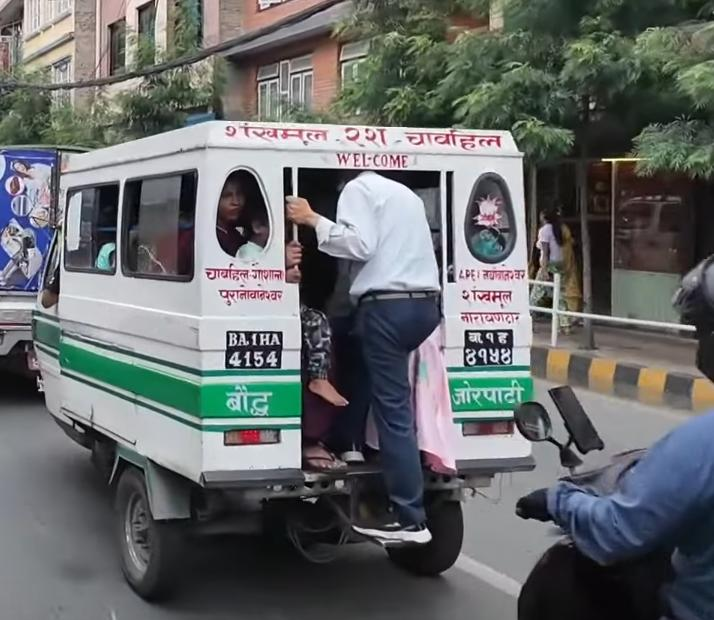tempo: (34, 109, 553, 610)
